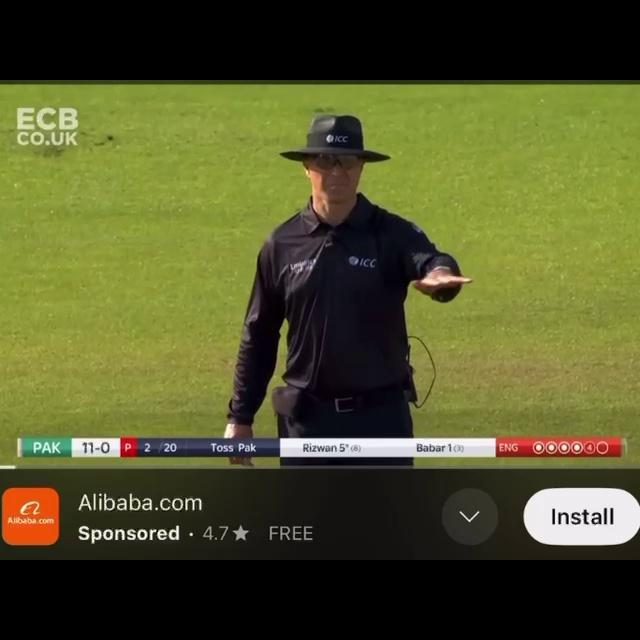umpire: (188, 105, 507, 434)
